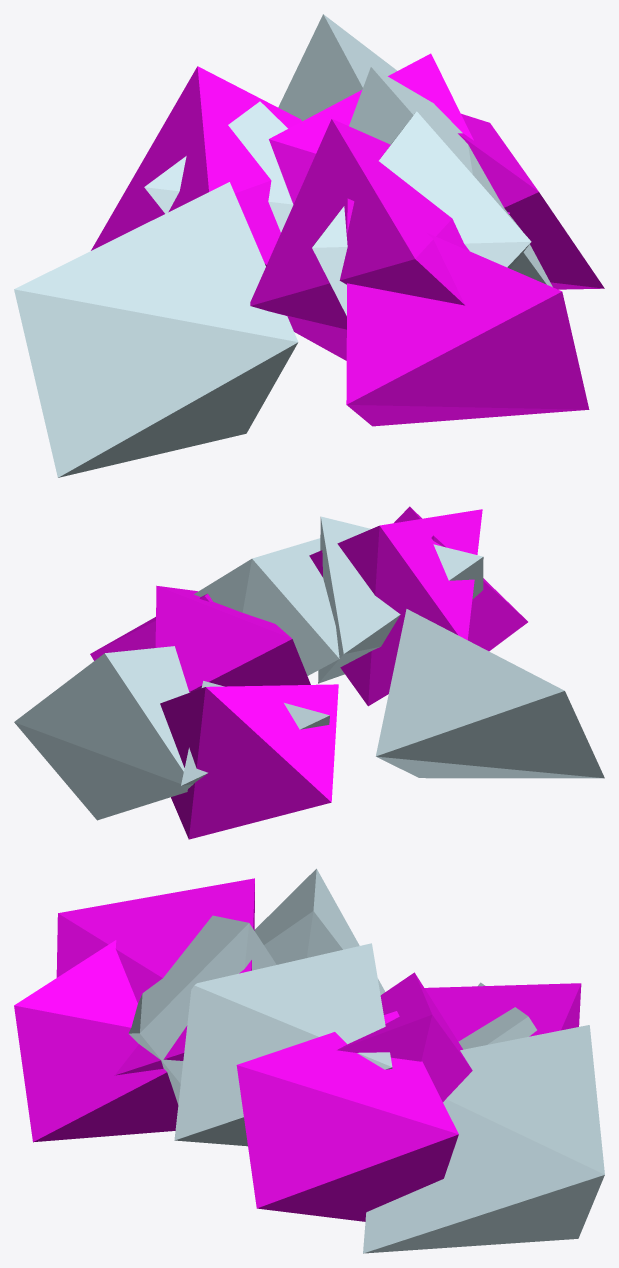
File: objet_verre.glb
3 views of the same model, one above another, from view 1: azimuth 30°, elevation 25°; view 2: azimuth 150°, elevation 25°; view 3: azimuth 270°, elevation 25° (orthographic). The views are drawn at different scales.
Parts seen in each view (by area): view 1: verre_teinte.002, verre_verre_clair.002; view 2: verre_verre_clair.002, verre_teinte.002; view 3: verre_teinte.002, verre_verre_clair.002.
Part boxes in pixels (x1,y1,x2,y2): verre_teinte.002: (91,53,604,426); verre_verre_clair.002: (14,14,552,477); verre_verre_clair.002: (14,516,604,820); verre_teinte.002: (90,506,527,839); verre_teinte.002: (14,878,581,1221); verre_verre_clair.002: (128,868,604,1253).
Bounding box in the file's own units: 0.1736 × 0.0885 × 0.1721.
